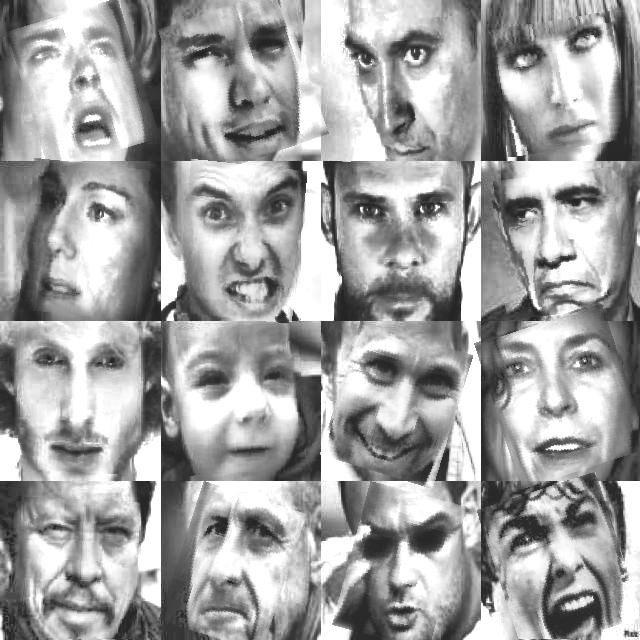angry: (169, 487, 296, 640), (494, 171, 624, 317), (334, 174, 460, 318), (341, 486, 458, 640), (336, 18, 462, 160), (18, 498, 138, 640)
fear: (486, 479, 632, 640), (17, 4, 151, 164), (179, 162, 304, 322), (492, 16, 624, 153)
happy: (169, 0, 318, 166), (329, 328, 465, 482), (179, 324, 305, 474)
neutral: (485, 311, 639, 481), (14, 324, 138, 474)
sad: (22, 161, 147, 319)
